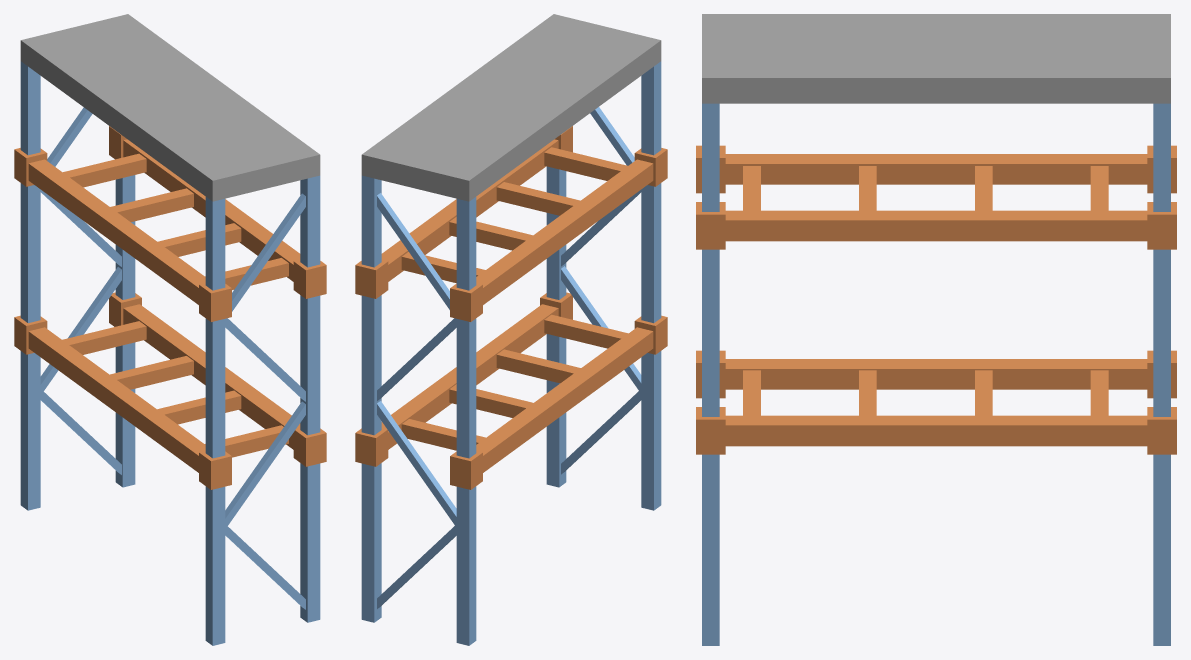
File: raf.fbx
3 views of the same model, side by side, from view 1: azimuth 30°, elevation 25°; view 2: azimuth 150°, elevation 25°; view 3: azimuth 270°, elevation 25° (orthographic). The views are drawn at different scales.
Visible parts, largest first — view 1: ust, dikeyDemir, dikeyDemir.001, dikeyDemir.002, yatayDemir.002, yatayDemir, yatayDemir.004, yatayDemir2, yatayDemir.001, dikeyDemir.003, yatayDemir.003, yandemir (+10 smaller); view 2: ust, dikeyDemir.001, dikeyDemir, dikeyDemir.003, yatayDemir.002, yatayDemir, yatayDemir.004, yatayDemir2, yatayDemir.001, dikeyDemir.002, yatayDemir.003, yandDemir2 (+10 smaller); view 3: ust, yatayDemir.001, yatayDemir.003, yatayDemir, yatayDemir.002, dikeyDemir.002, dikeyDemir.003, yatayDemir.004, yatayDemir2, Cube.005, Cube.006, Cube.013 (+1 smaller).
Part boxes in pixels (x1=…): ust: x1=20, y1=14, x2=320, y2=201; dikeyDemir: x1=205, y1=197, x2=225, y2=645; dikeyDemir.001: x1=20, y1=61, x2=40, y2=510; dikeyDemir.002: x1=300, y1=175, x2=320, y2=622; yatayDemir.002: x1=28, y1=159, x2=205, y2=304; yatayDemir: x1=28, y1=327, x2=205, y2=472; yatayDemir.004: x1=62, y1=321, x2=288, y2=457; yatayDemir2: x1=63, y1=153, x2=288, y2=289; yatayDemir.001: x1=123, y1=304, x2=300, y2=449; dikeyDemir.003: x1=115, y1=175, x2=135, y2=487; yatayDemir.003: x1=123, y1=139, x2=300, y2=281; yandemir: x1=225, y1=401, x2=305, y2=609; ust: x1=361, y1=14, x2=661, y2=201; dikeyDemir.001: x1=456, y1=197, x2=476, y2=645; dikeyDemir: x1=641, y1=61, x2=661, y2=510; dikeyDemir.003: x1=361, y1=175, x2=381, y2=622; yatayDemir.002: x1=476, y1=159, x2=653, y2=304; yatayDemir: x1=476, y1=327, x2=653, y2=472; yatayDemir.004: x1=401, y1=314, x2=628, y2=450; yatayDemir2: x1=401, y1=147, x2=627, y2=283; yatayDemir.001: x1=381, y1=304, x2=558, y2=449; dikeyDemir.002: x1=546, y1=166, x2=566, y2=487; yatayDemir.003: x1=381, y1=139, x2=558, y2=281; yandDemir2: x1=377, y1=401, x2=456, y2=608; ust: x1=702, y1=14, x2=1170, y2=103; yatayDemir.001: x1=725, y1=415, x2=1147, y2=446; yatayDemir.003: x1=725, y1=210, x2=1147, y2=241; yatayDemir: x1=725, y1=359, x2=1147, y2=389; yatayDemir.002: x1=725, y1=154, x2=1147, y2=184; dikeyDemir.002: x1=702, y1=103, x2=719, y2=645; dikeyDemir.003: x1=1153, y1=103, x2=1170, y2=645; yatayDemir.004: x1=743, y1=370, x2=1108, y2=415; yatayDemir2: x1=743, y1=166, x2=1108, y2=210; Cube.005: x1=696, y1=407, x2=725, y2=454; Cube.006: x1=1147, y1=407, x2=1176, y2=454; Cube.013: x1=696, y1=202, x2=725, y2=249.
Size of the model in its own units: 235 by 902 by 692.
